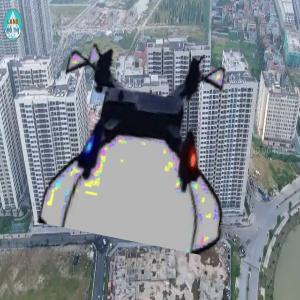drone: (41, 41, 242, 242)
